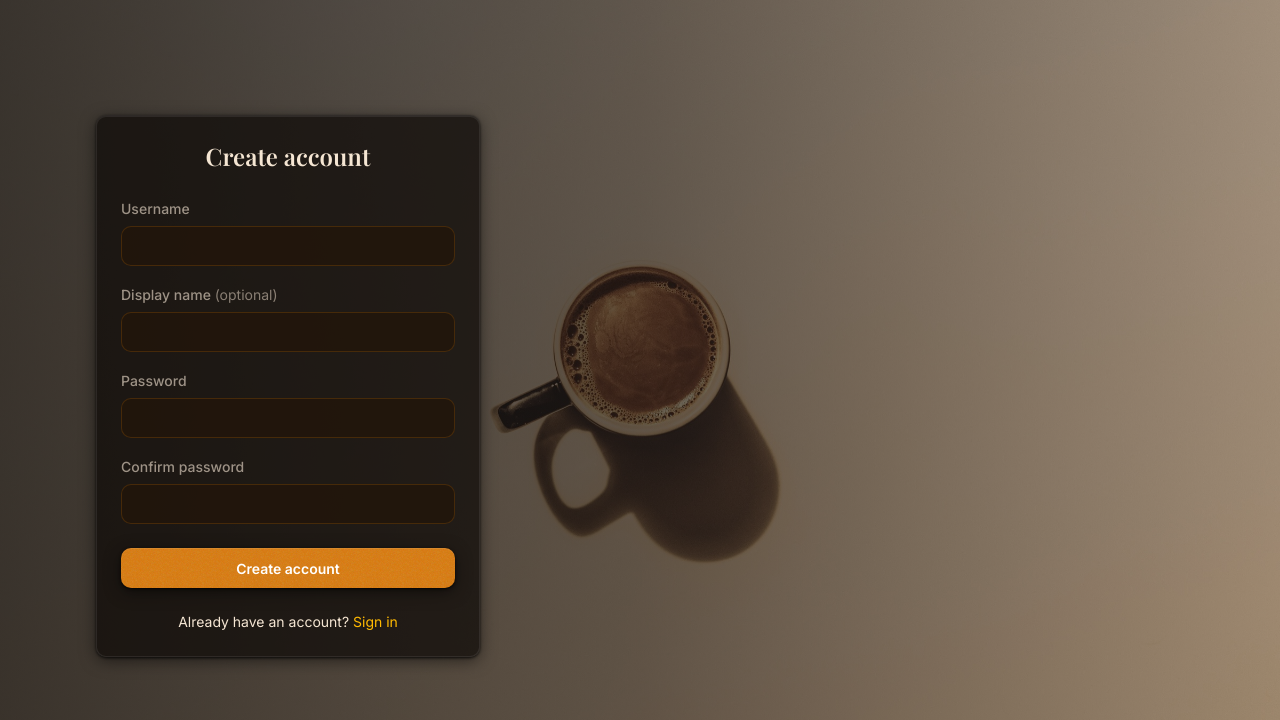
Test: Register page › shows username too short error on blur
The width and height of the screenshot is (1280, 720).
Type "ab" into the field labelled "Username" at {"x": 288, "y": 246}, box left=121, top=226, right=455, bottom=266
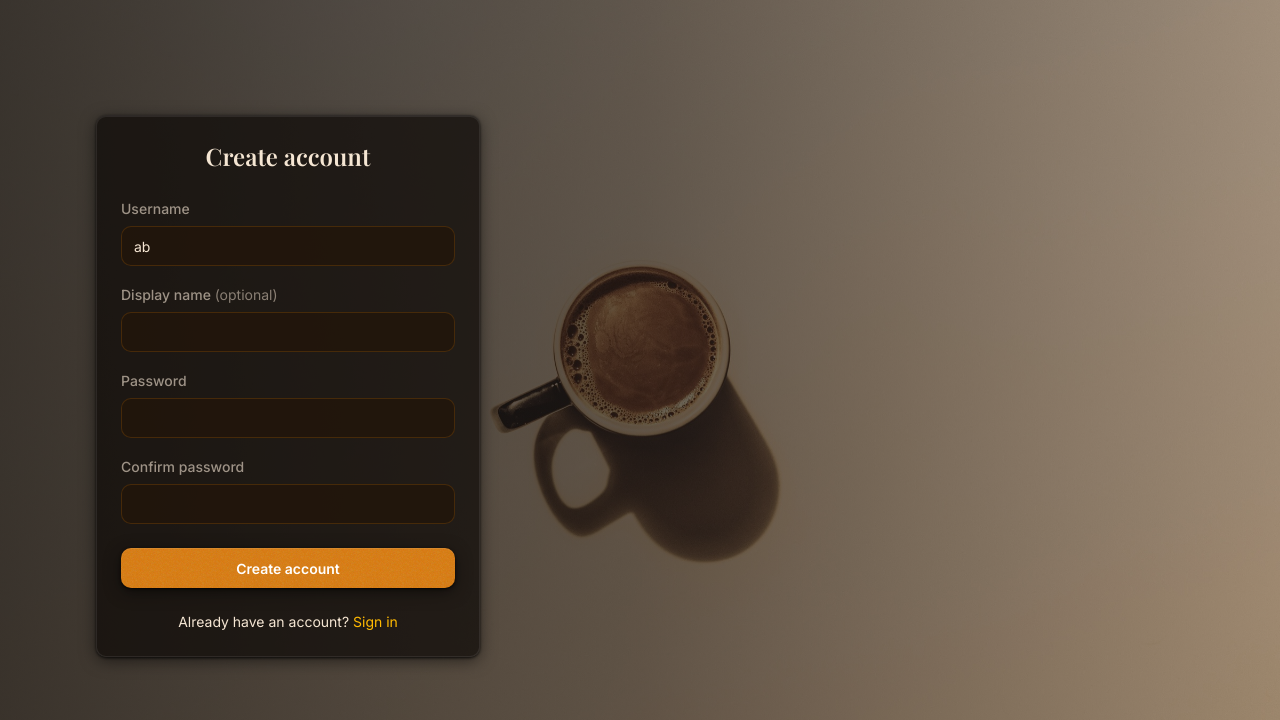
Leave the field labelled "Username", box left=121, top=226, right=455, bottom=266
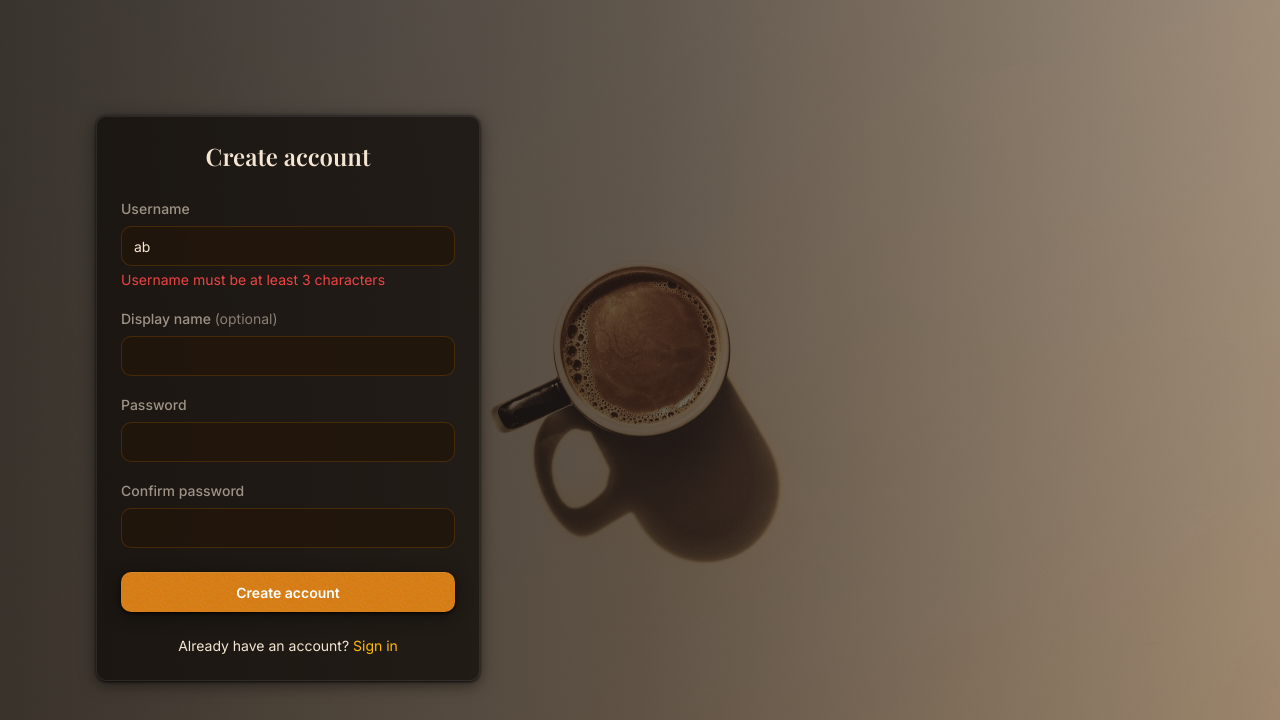
Expected: the message reads "Username must be at least 3 characters", left=121, top=271, right=385, bottom=288
